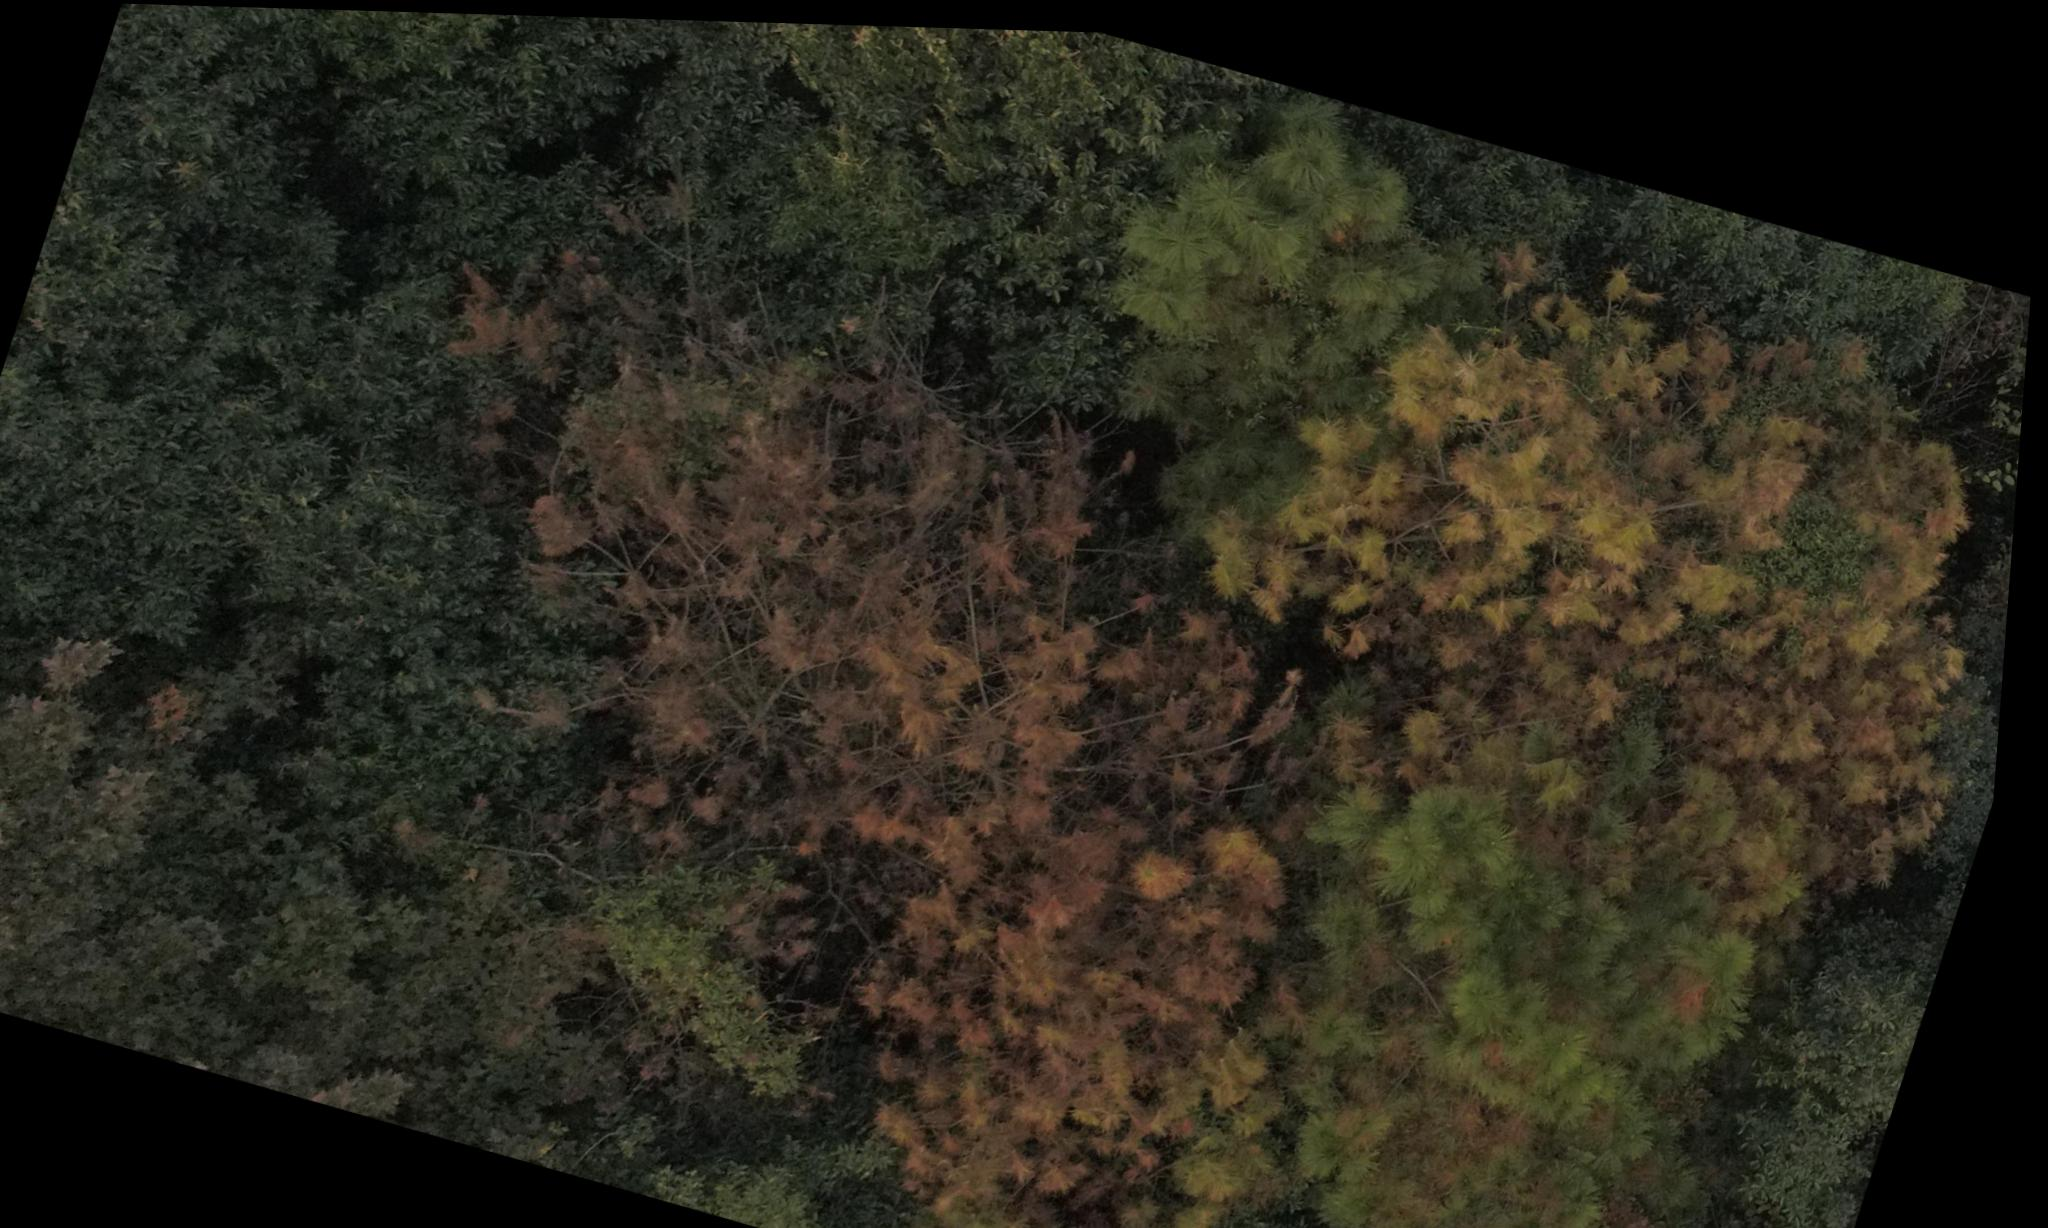heavy: (427, 260, 1085, 864), (858, 634, 1367, 1228)
light: (1218, 196, 2038, 839), (1234, 738, 1808, 1228)
